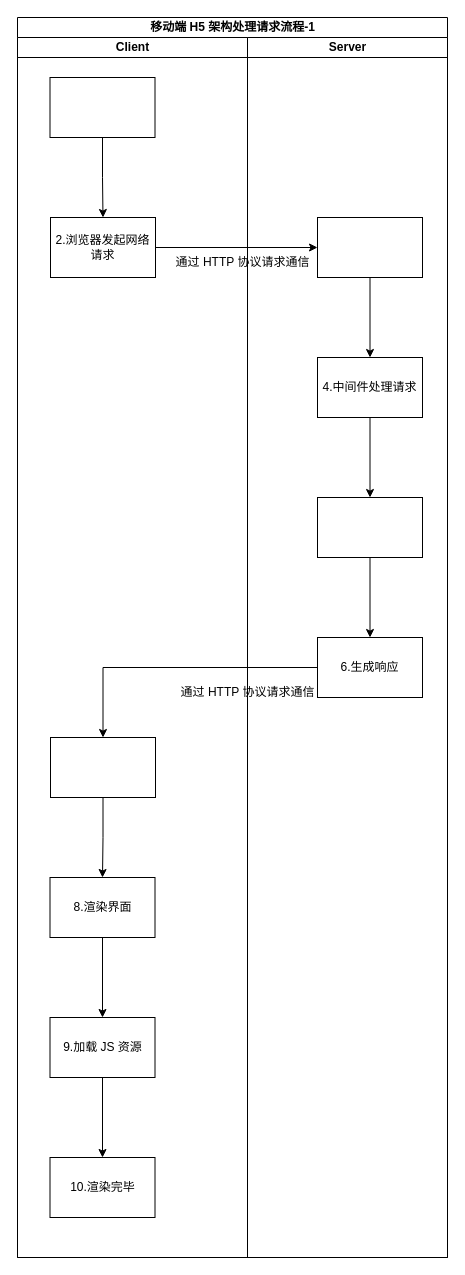
Some shapes in this 465 by 1275 pixel diagram are drawn without their labels. Each missing label, with the centre of its shape:
"1.用户在移动设备上访问 H5 页面，通过浏览器加载页面" belongs at point (102, 107).
"3.服务器接收请求" belongs at point (369, 247).
"5.业务逻辑处理" belongs at point (369, 527).
"7.客户端处理响应" belongs at point (103, 767).
